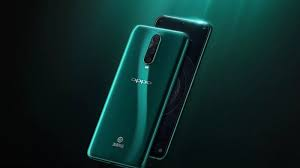oppo: (85, 23, 191, 166)
